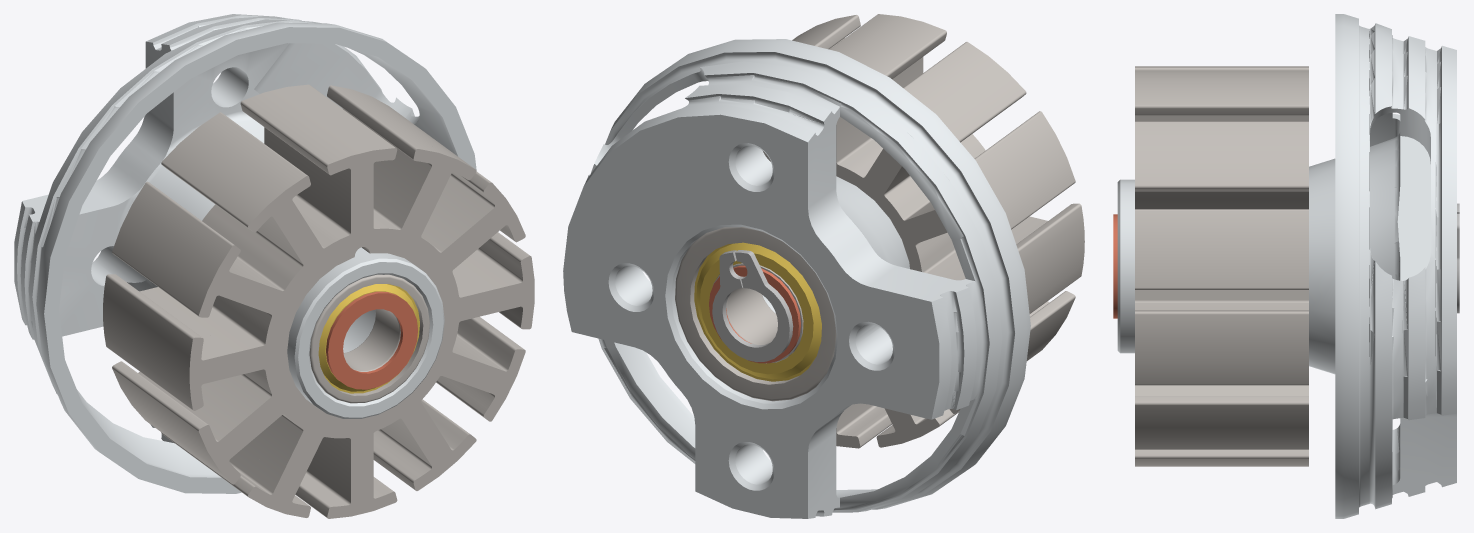
File: stator.glb
The picture shows the model from 3 angles, left to right: view 1: azimuth 30°, elevation 25°; view 2: azimuth 150°, elevation 25°; view 3: azimuth 270°, elevation 25°; orthographic projection.
Parts seen in each view (by area): view 1: 2310-Mount; view 2: 2310-Mount; view 3: 2310-Mount.
Boxes of the visible parts, <box> form: 2310-Mount: <box>14,14,534,518</box>; 2310-Mount: <box>563,14,1084,518</box>; 2310-Mount: <box>1113,14,1459,518</box>.
Bounding box in the file's own units: 0.0291 × 0.0289 × 0.0199.
